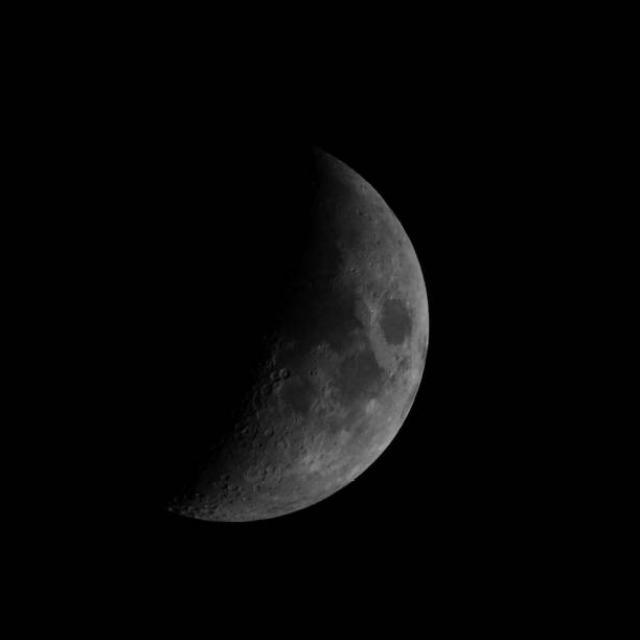moon: (49, 130, 454, 548)
